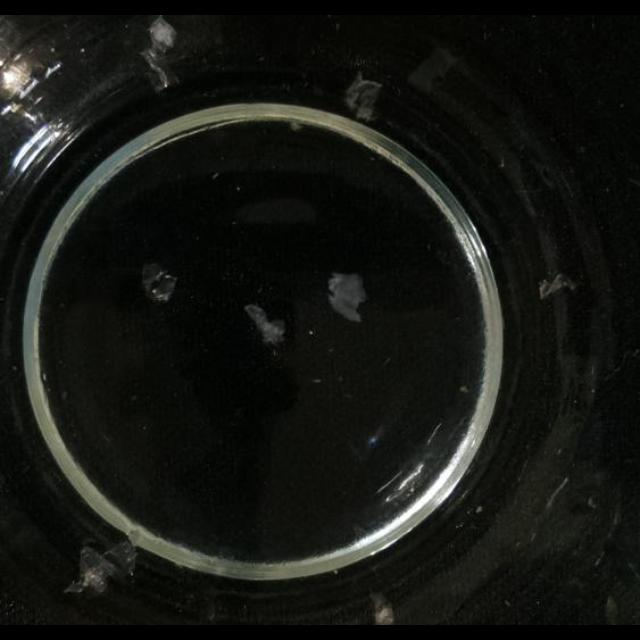Fibre: (65, 539, 135, 597), (138, 18, 180, 92), (344, 70, 384, 120), (140, 262, 178, 304), (539, 272, 579, 300), (544, 474, 570, 510), (370, 592, 394, 624), (605, 596, 619, 624), (588, 496, 598, 510)
Fragment: (326, 272, 368, 324), (244, 304, 286, 346)
